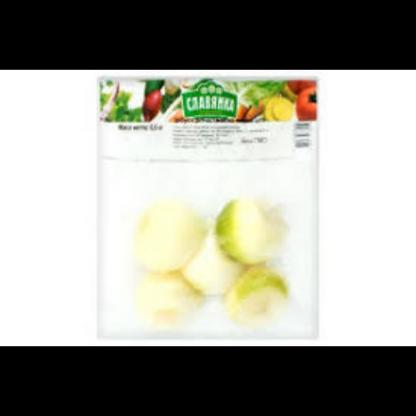onion: (133, 180, 288, 319)
